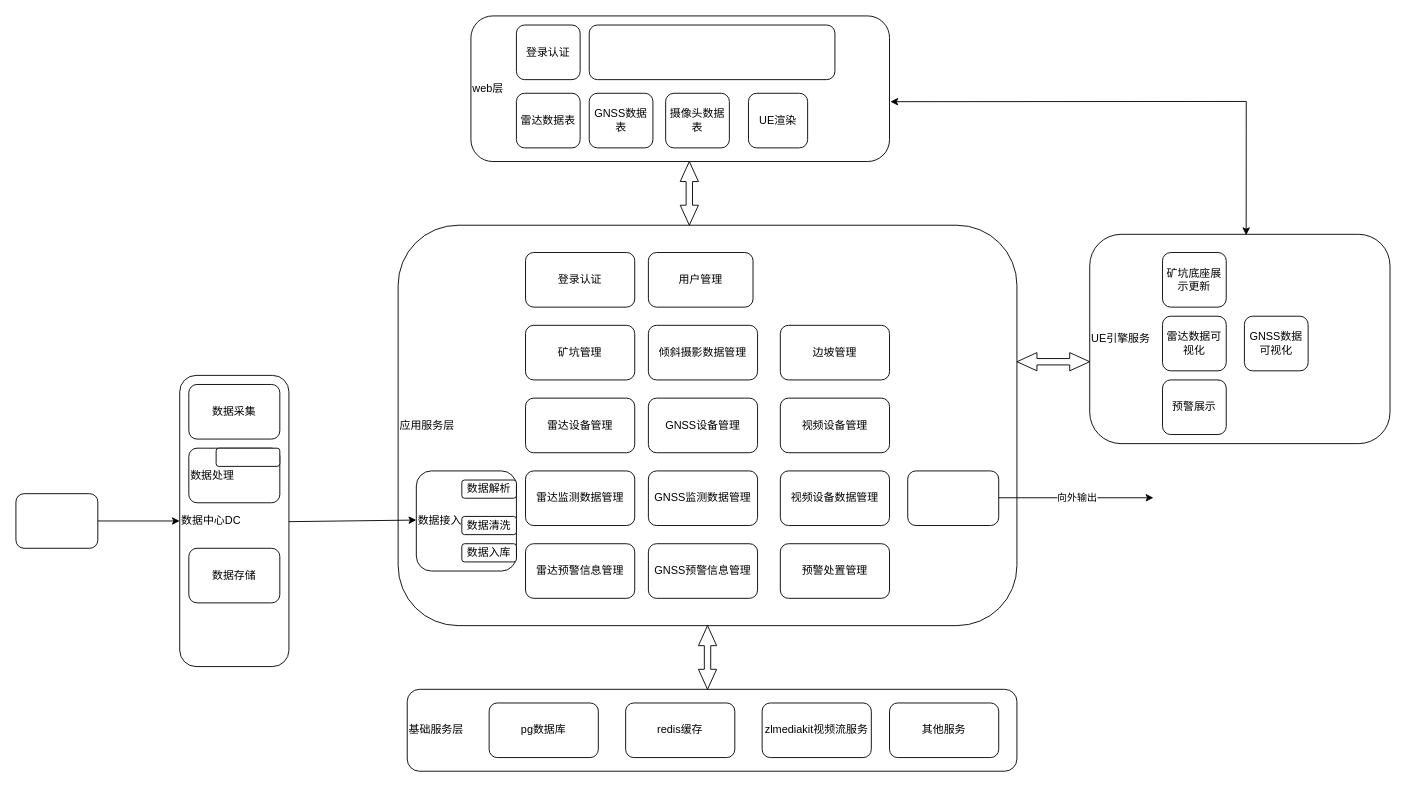
This 1406x787 diagram has some shape labels left out. Each missing label, with the centre of its shape:
数据上报: the point at 953,498
矿坑/边坡/设备基本型信息表: the point at 711,52
设备: the point at 56,520
预警等计算: the point at 247,456
